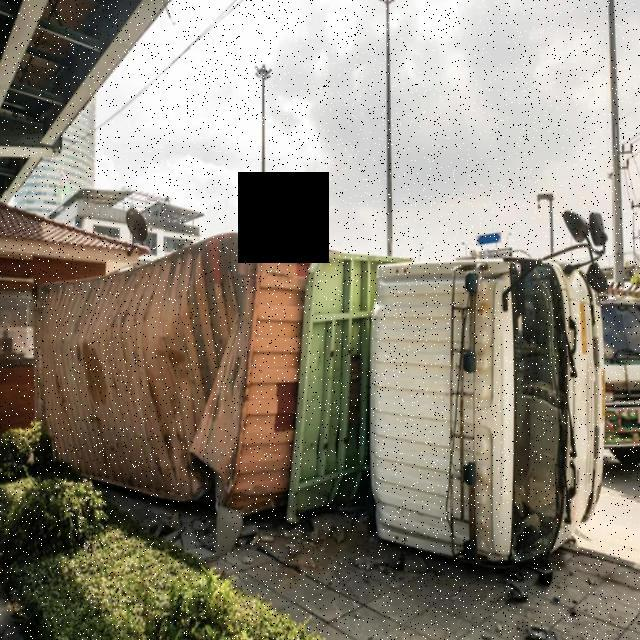severe: (24, 222, 612, 576)
